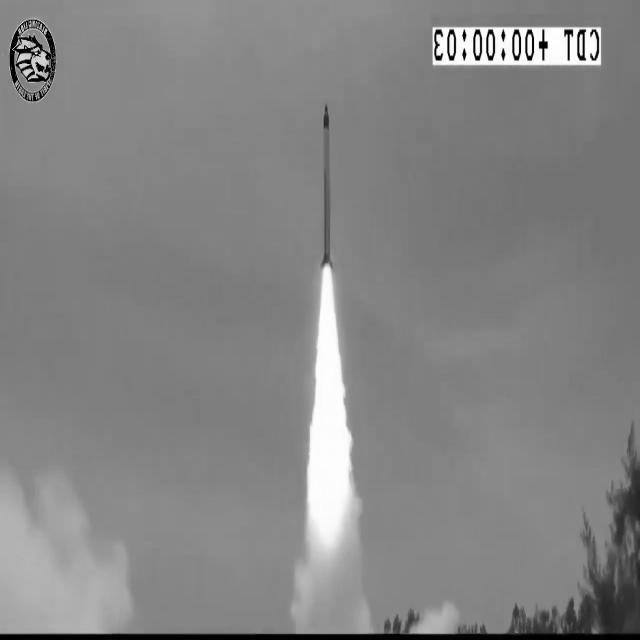missile: (318, 100, 336, 270)
